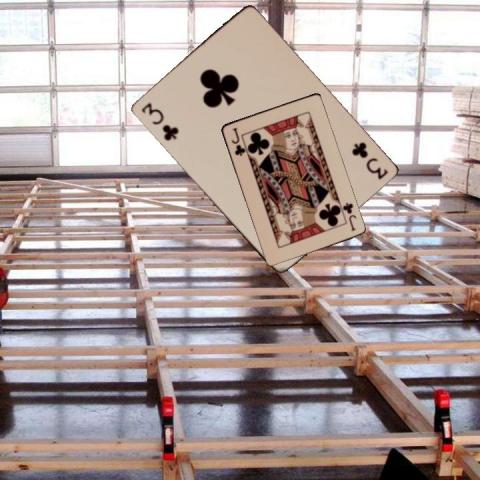3c: (137, 99, 180, 142), (348, 139, 389, 181)
Jc: (340, 199, 358, 232), (228, 125, 245, 157)
